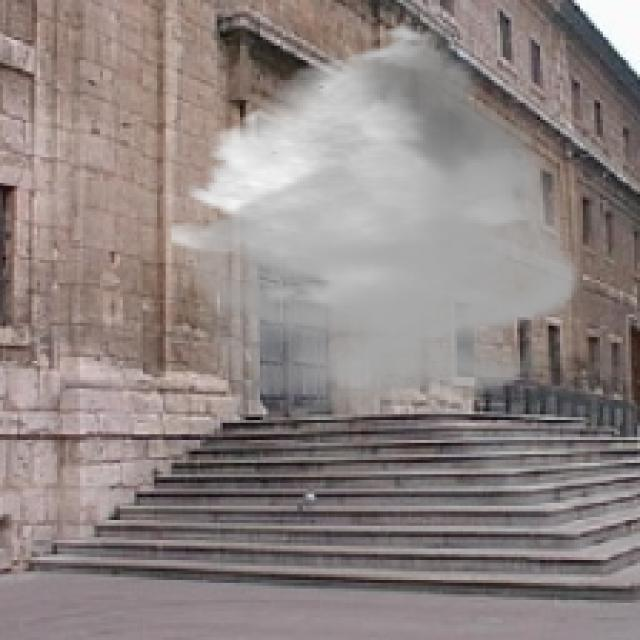Smoke: (171, 20, 586, 420)
